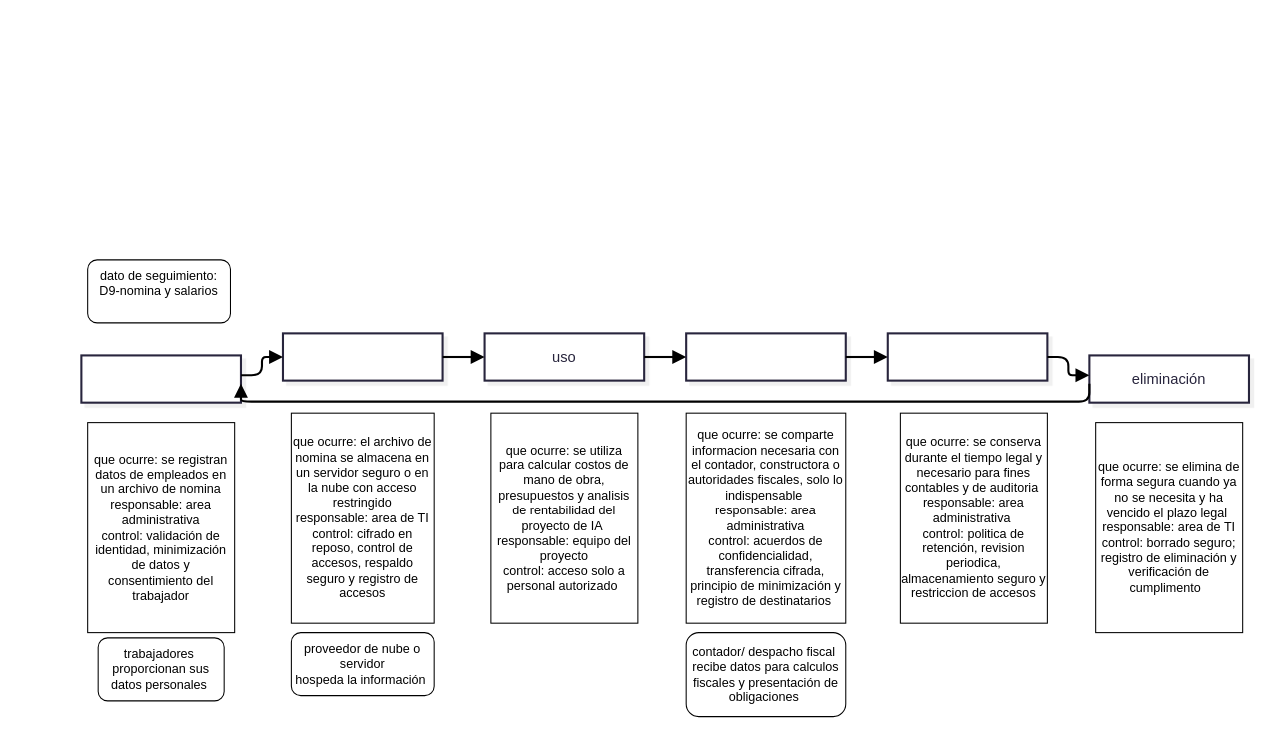
Image size: 1272x735. Some labels were removed from this diagram. Here are the shapes that lost their labels. From the top down, the centre of each, then its label:
the point at 364,358: almacenamiento
the point at 767,358: compartición
the point at 969,358: reetención
the point at 163,380: captura
